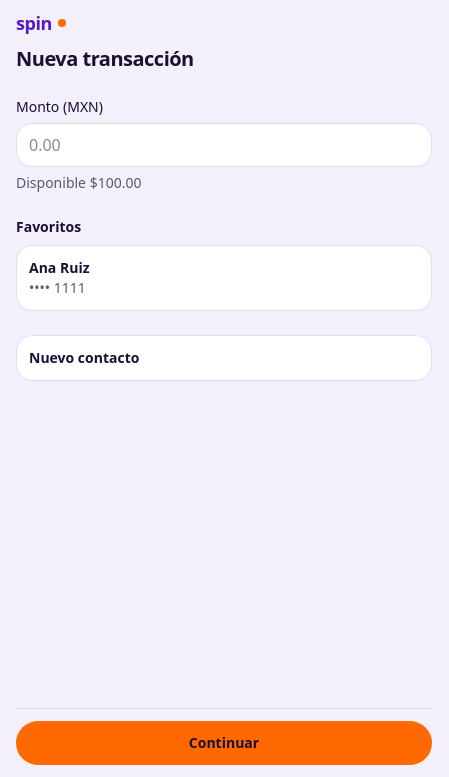
Test case: TransactionPage › bloquea continuar cuando el monto supera el saldo
Type "150" into the field labelled "Monto (MXN)" at (224, 145), box x1=16 y1=123 x2=432 y2=167
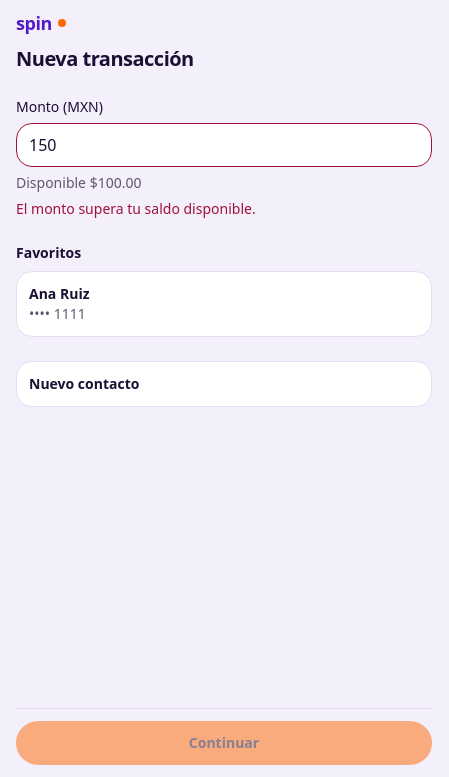
Expected: the message reads "El monto supera tu saldo disponible.", x1=16 y1=199 x2=256 y2=218
Expected: the button "Continuar" is disabled, x1=16 y1=721 x2=432 y2=765
